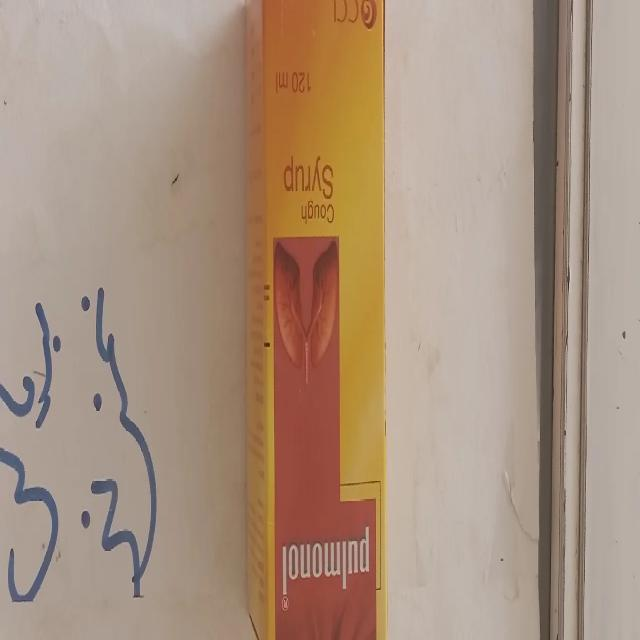drug-name: (278, 522, 372, 608)
